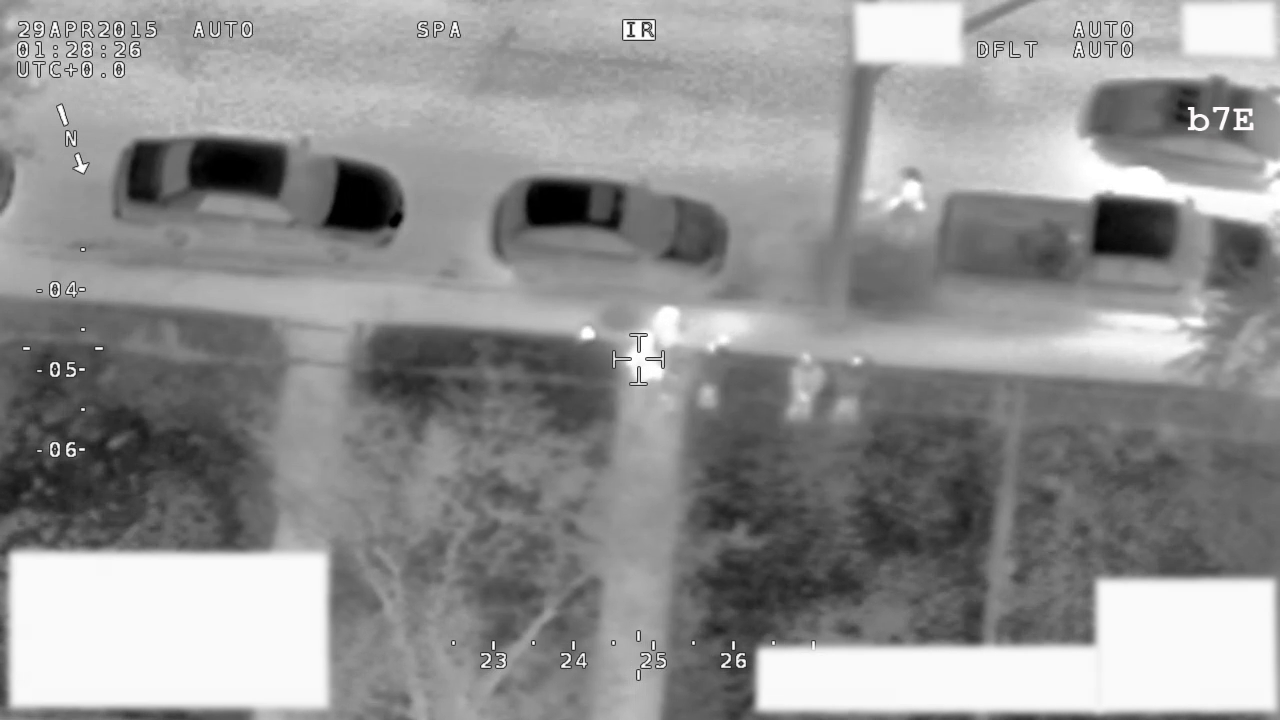vehicle: (930, 185, 1280, 349), (104, 130, 409, 275), (482, 169, 734, 290), (1078, 71, 1280, 198)
